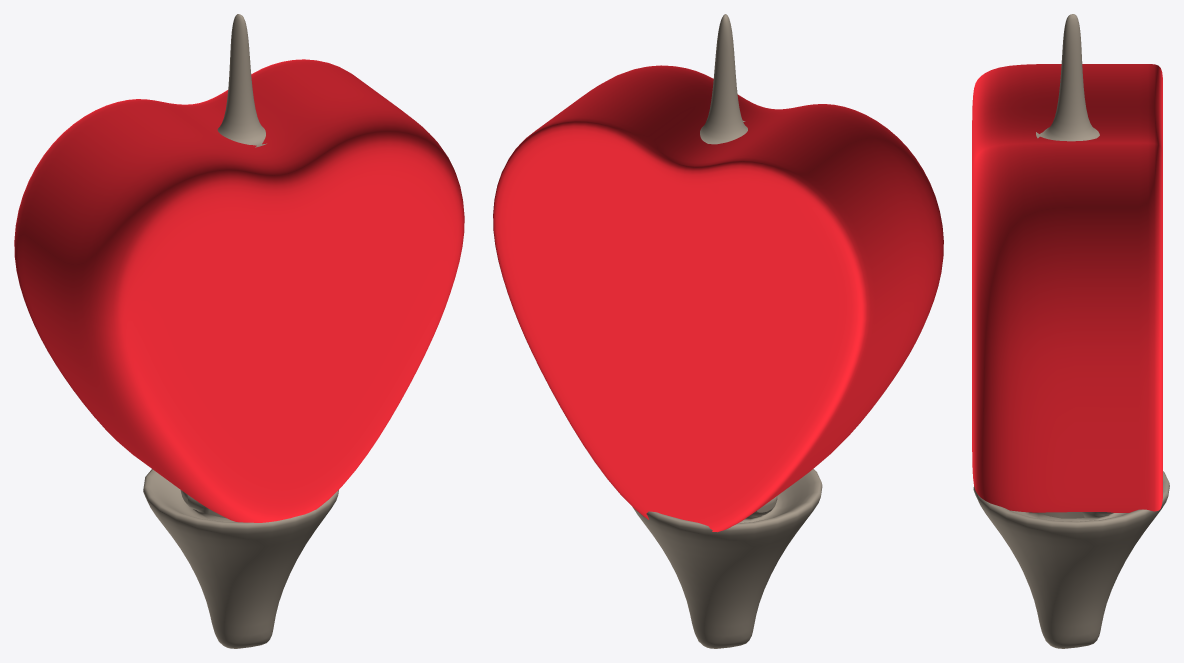
The model's file is heart-candle.glb.
The picture shows the model from 3 angles, left to right: view 1: azimuth 30°, elevation 25°; view 2: azimuth 150°, elevation 25°; view 3: azimuth 270°, elevation 25°; orthographic projection.
Parts seen in each view (by area): view 1: 10868_birthday-cake_v3.011; view 2: 10868_birthday-cake_v3.011; view 3: 10868_birthday-cake_v3.011.
Boxes of the visible parts, box(x1,y1,x2,y2) form: 10868_birthday-cake_v3.011: box(14, 14, 464, 648); 10868_birthday-cake_v3.011: box(493, 14, 943, 648); 10868_birthday-cake_v3.011: box(972, 14, 1169, 648).
Bounding box in the file's own units: 1.5 × 2.4 × 0.688.
